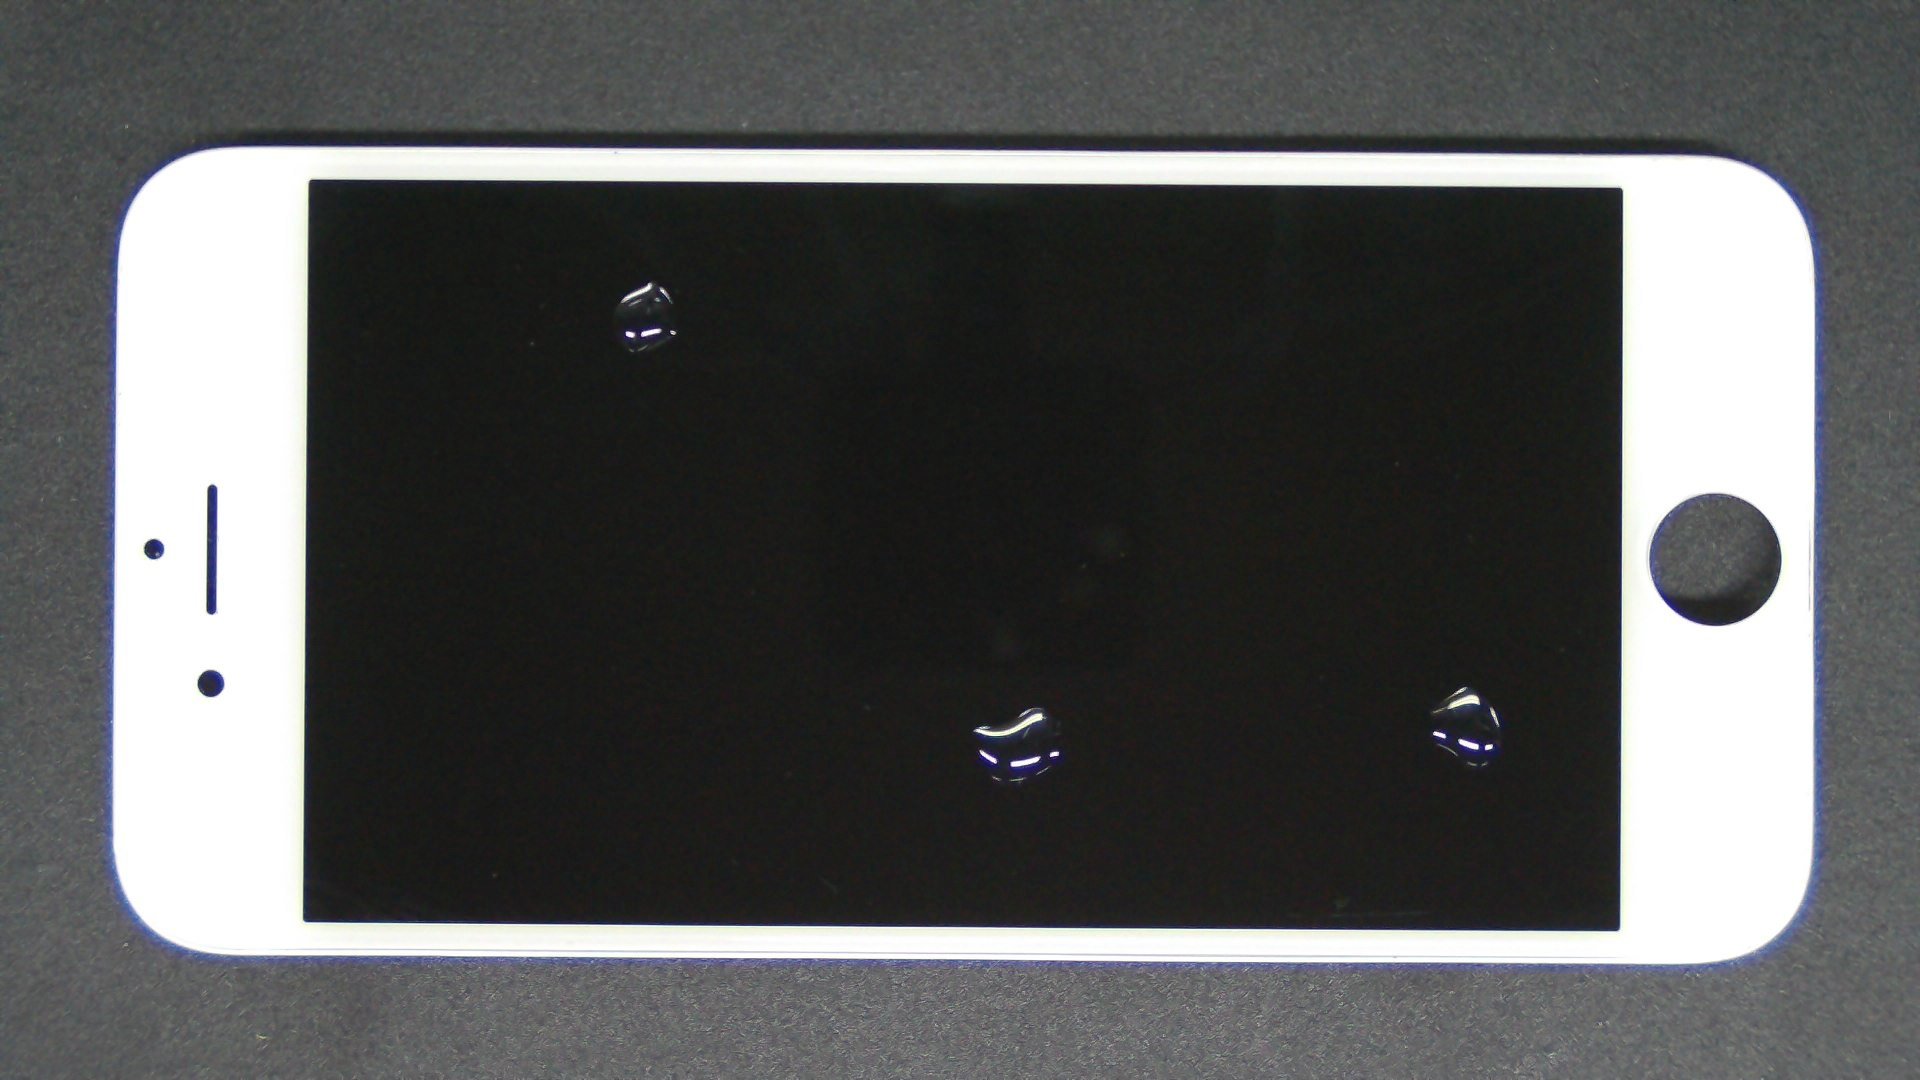oil: (733, 342, 1920, 1029), (516, 351, 1544, 1055), (328, 136, 972, 422)
